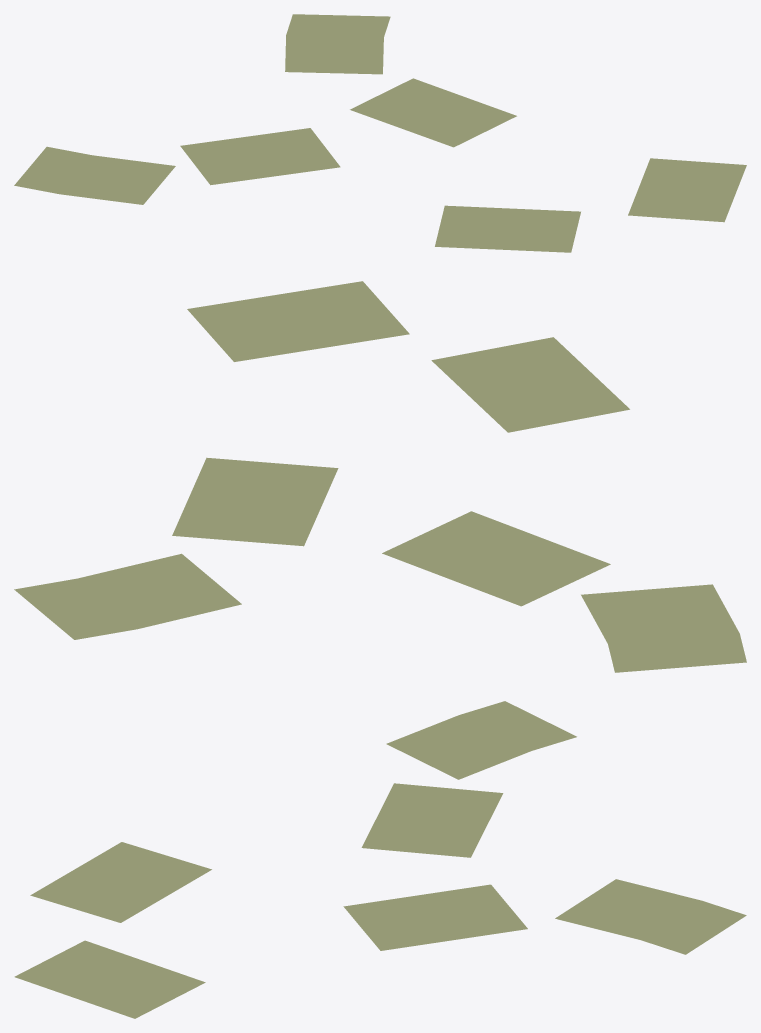
Rendered from paper1.fbx.
The picture shows the model from 3 angles, top to bottom: view 1: azimuth 30°, elevation 25°; view 2: azimuth 150°, elevation 25°; view 3: azimuth 270°, elevation 25°; orthographic projection. The views are drawn at different scales.
Visible parts, largest first — view 1: Plane; view 2: Plane; view 3: Plane.
Boxes of the visible parts, x1,y1,x2,y2 form: Plane: [14, 14, 746, 252]; Plane: [14, 281, 746, 672]; Plane: [14, 701, 746, 1018].
Size of the model in its own units: 269 by 8.54e-05 by 262.
